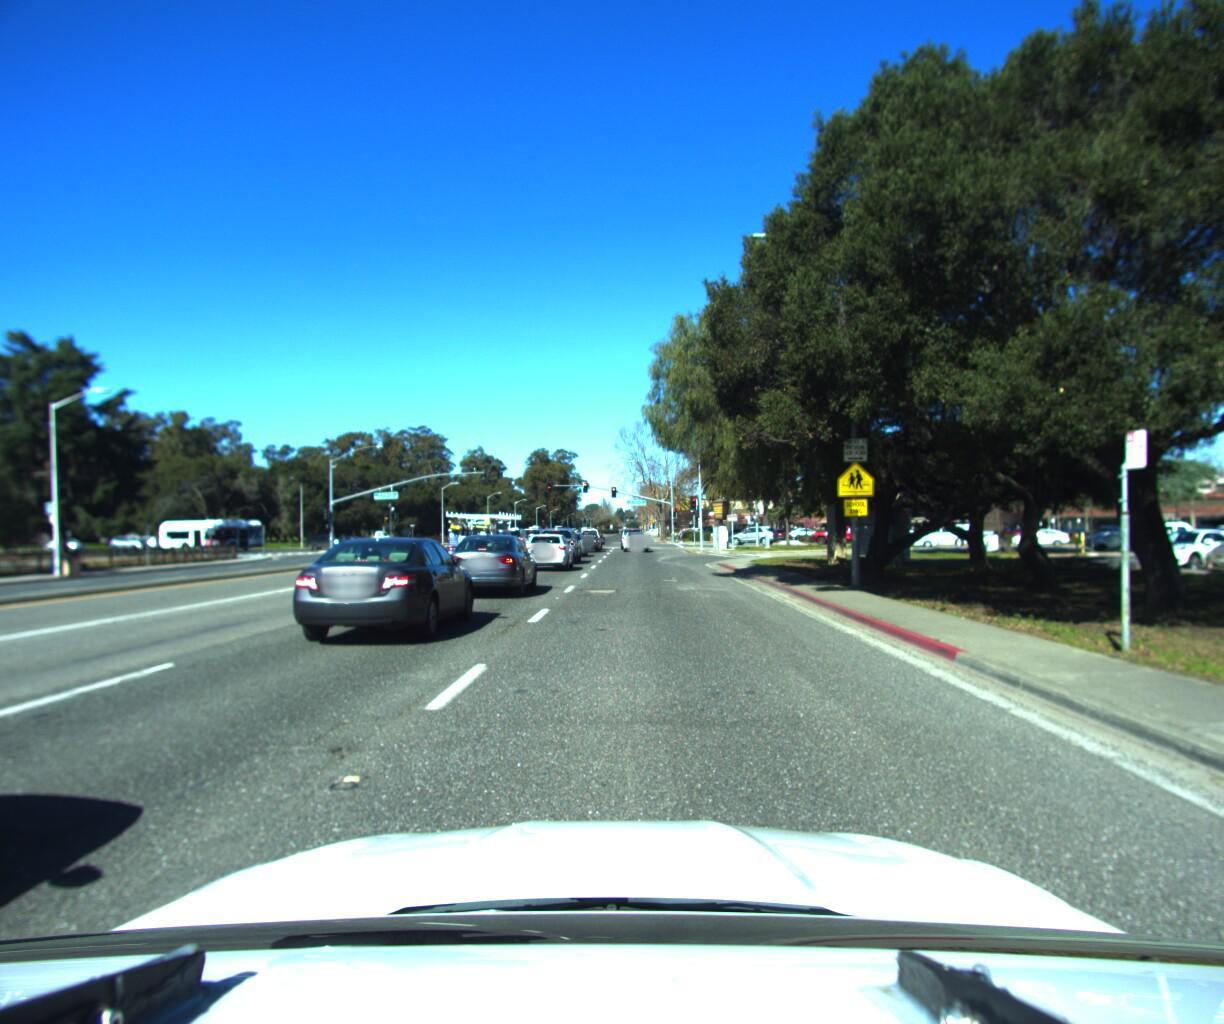car: (266, 530, 481, 658), (437, 532, 542, 602), (1111, 511, 1189, 542), (521, 529, 573, 571), (531, 526, 582, 565), (1075, 524, 1151, 544), (806, 521, 872, 543), (905, 521, 971, 543), (724, 521, 784, 543), (492, 526, 533, 556), (890, 523, 952, 542), (1009, 523, 1070, 542), (553, 529, 588, 557), (620, 528, 648, 551), (572, 530, 601, 552)
other_vehicle: (446, 506, 523, 568)
